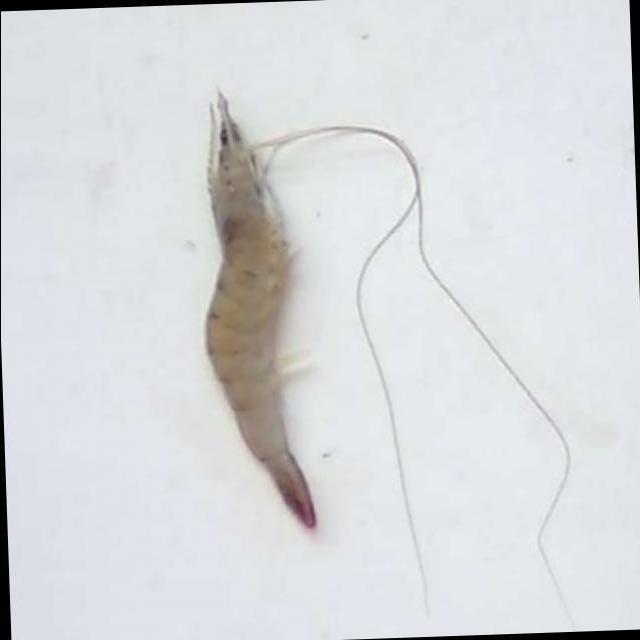shrimp: (206, 93, 315, 530)
